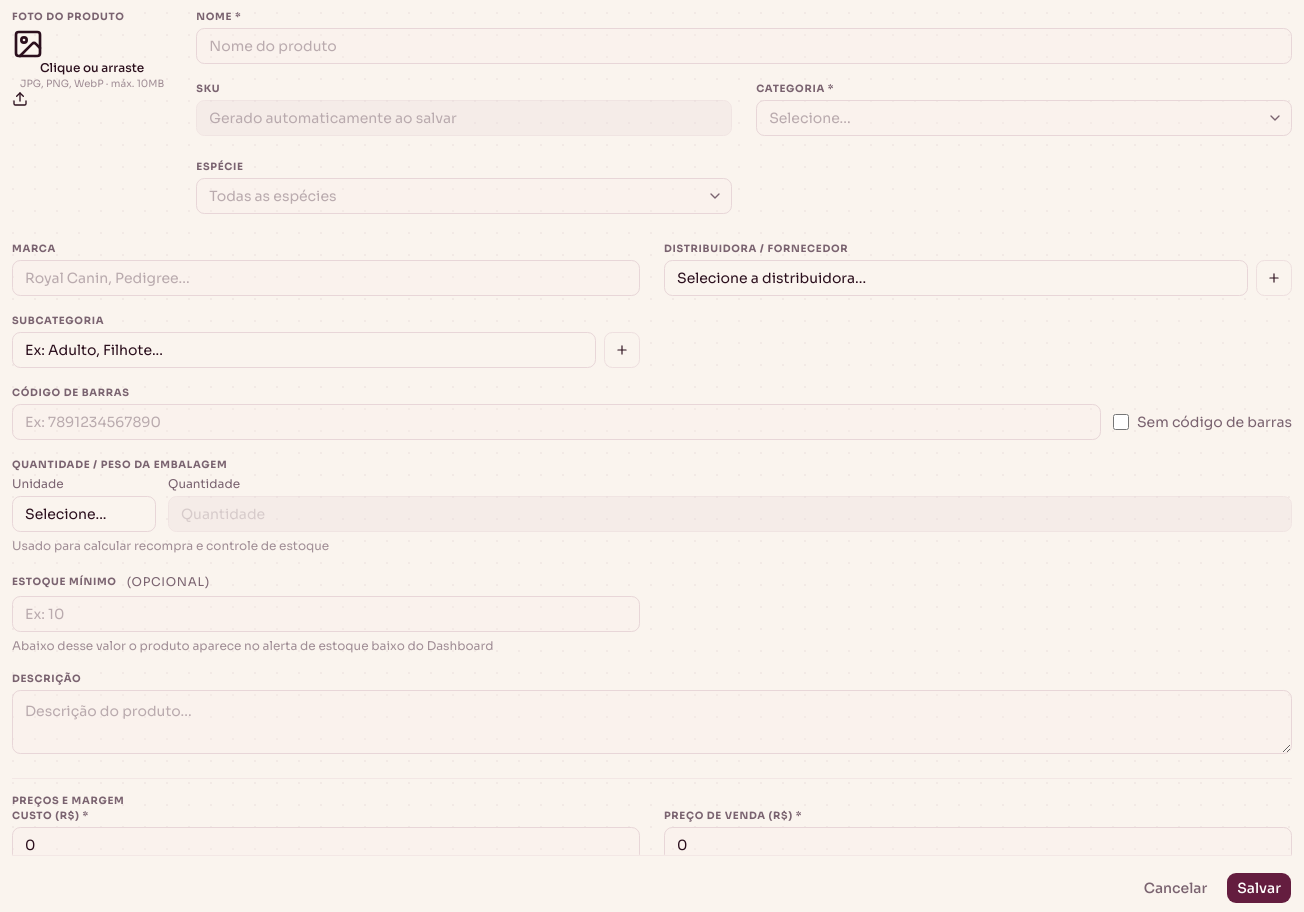
ProdutoForm — distribuidora › adicionar uma variação seleciona a oficial, sem criar opção repetida
Click the button titled "Nome da nova distribuidora".
click(1274, 278)  # box [1256,260,1292,296]
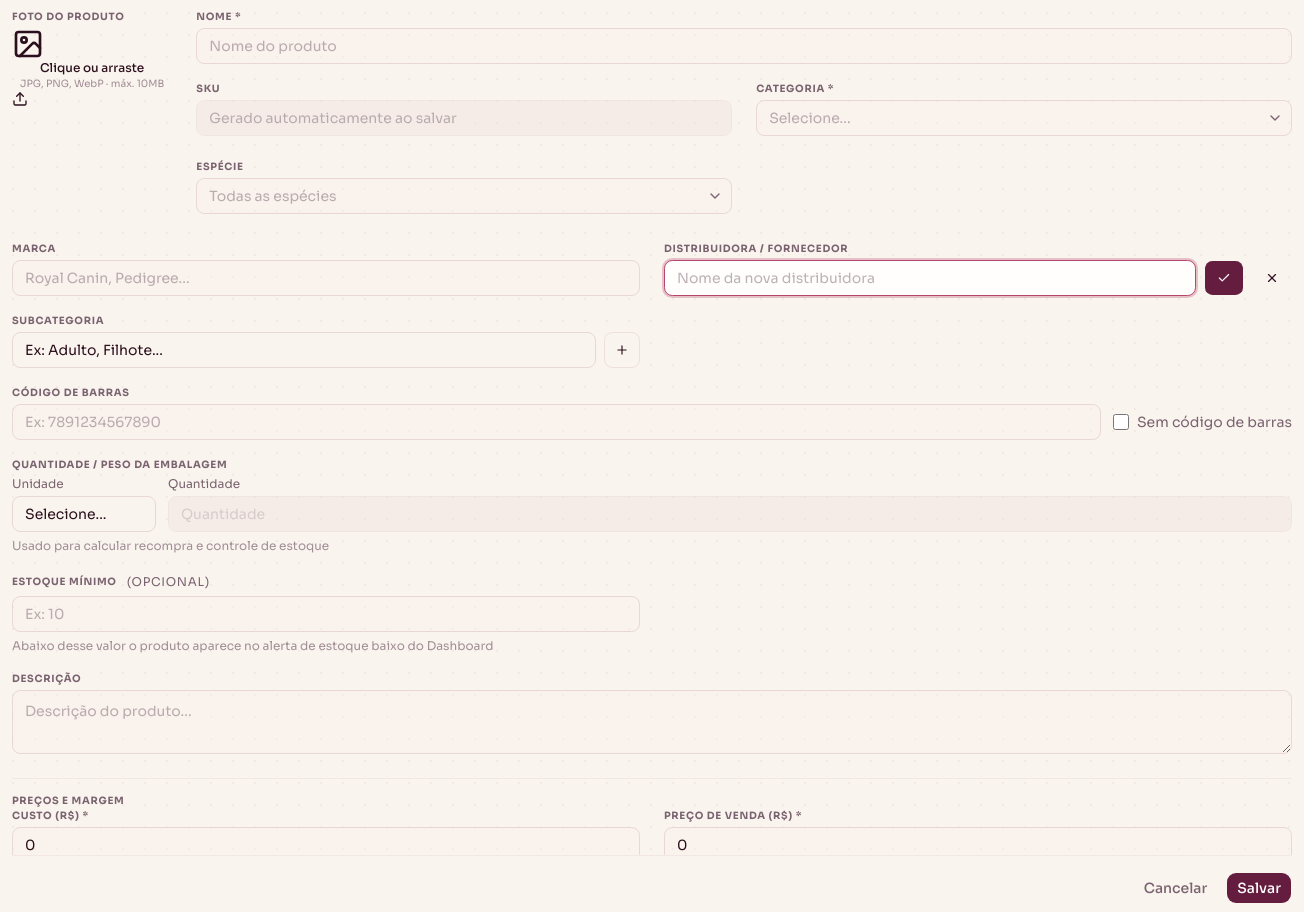
Type "zoo center" into the field with placeholder "Nome da nova distribuidora".
click(930, 278); type("zoo center")  # box [664,260,1196,296]
Then press Enter
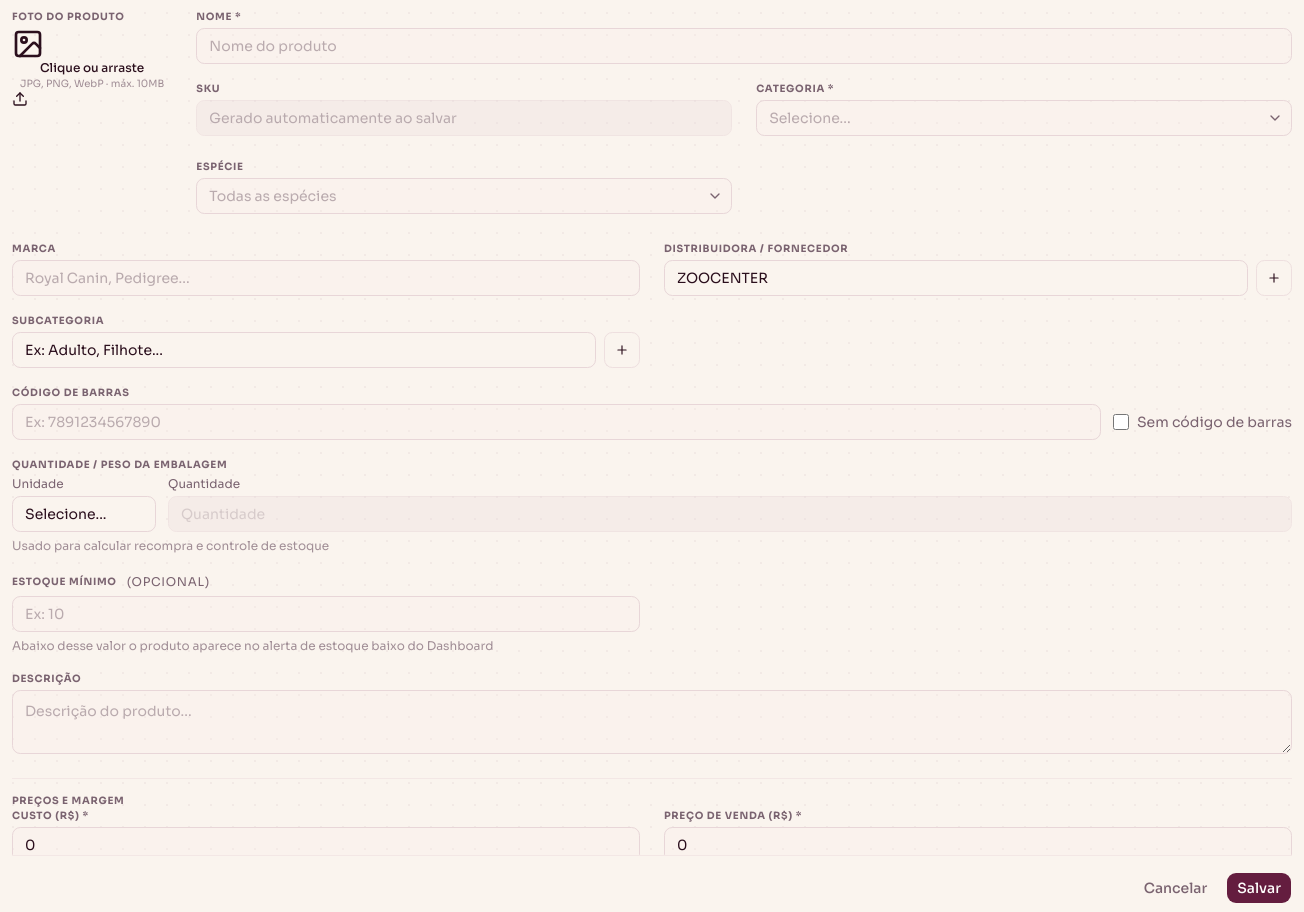
Now the dropdown named "Selecione a distribuidora..." below "Distribuidora / Fornecedor" shows "ZOOCENTER", box [664,260,1248,296]
